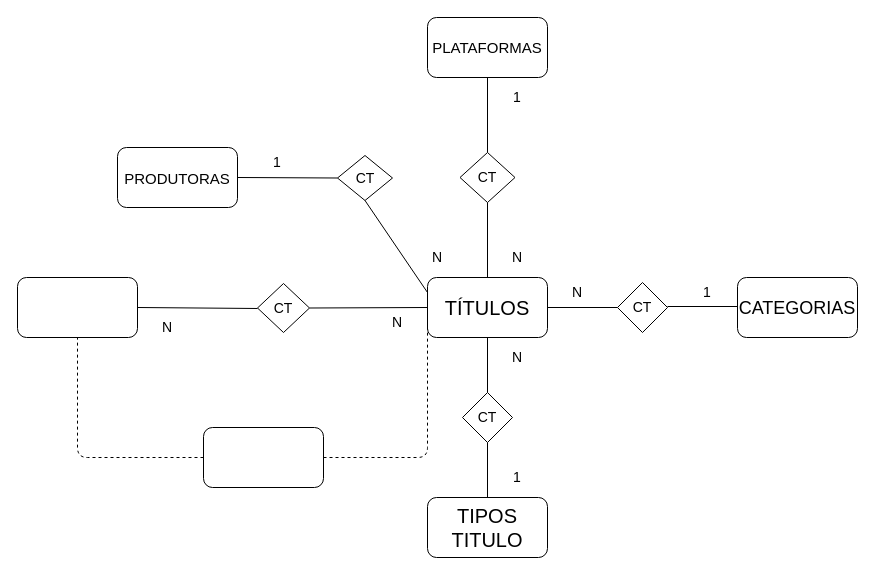
Some shapes in this 875 by 575 pixel diagram are drawn without their labels. Each missing label, with the box of its shape:
FAVORITOS: (202, 426, 324, 488)
USUÁRIOS: (16, 276, 138, 338)
